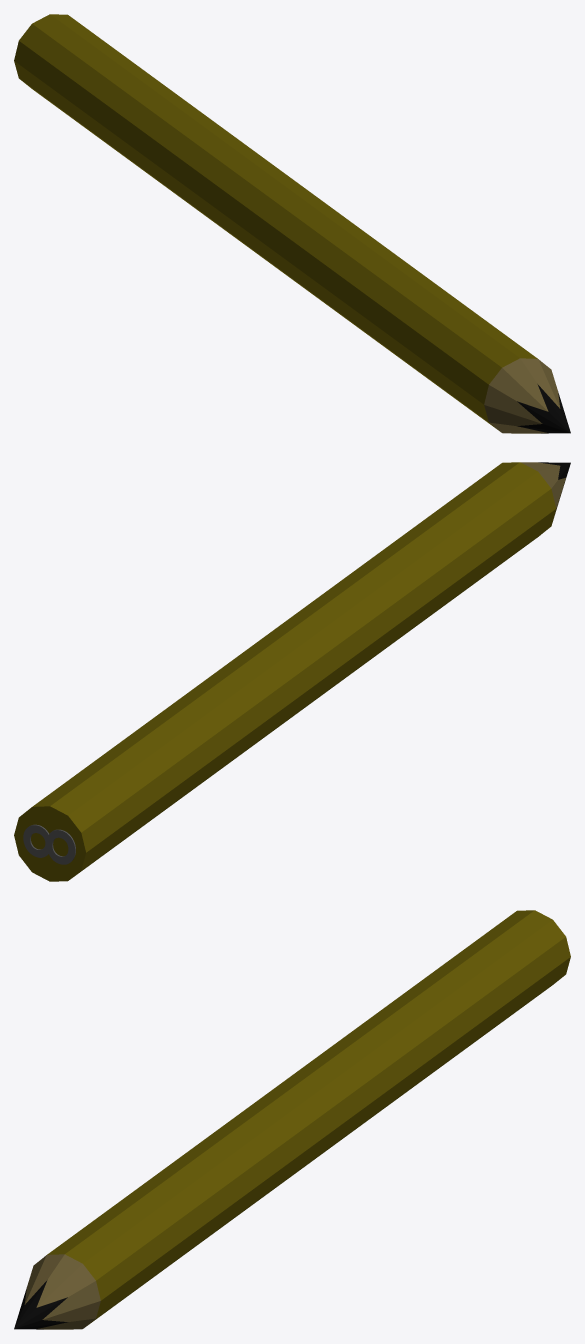
File: yellow.obj
3 renders of one model, top to bottom at view 1: azimuth 30°, elevation 25°; view 2: azimuth 150°, elevation 25°; view 3: azimuth 330°, elevation 25°, orthographic.
Parts seen in each view (by area): view 1: yellowpencil; view 2: yellowpencil; view 3: yellowpencil.
Boxes of the visible parts, left/top/right/bottom form: yellowpencil: left=14, top=14, right=570, bottom=433; yellowpencil: left=14, top=462, right=570, bottom=881; yellowpencil: left=14, top=910, right=570, bottom=1329.
Size of the model in its own units: 0.02 by 0.02 by 0.2504.
